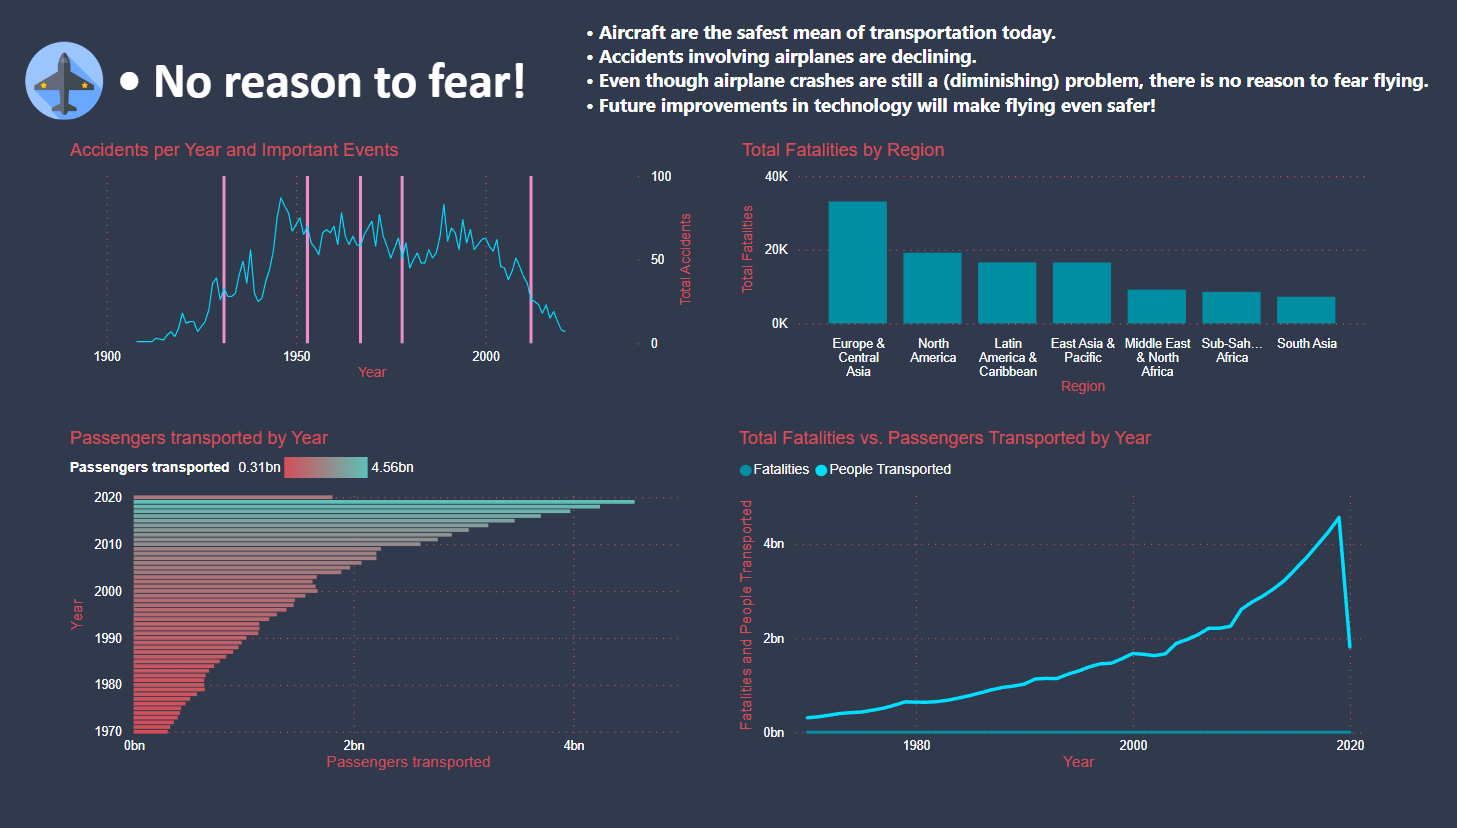

This screenshot's page, from the dashboard's own definition file:
{"tool":"powerbi","page":{"name":"Hope","canvas":[1280,720],"ordinal":3},"visuals":[{"type":"lineChart","title":"Total Fatalities vs. Passengers Transported by Year","fields":{"Category":["Calendar.year"],"Y":["henry_piii plane_accidents.total_fatalities","henry_piii passengers_per_year.value"]},"box":[640.5,375.8,549.3,300.4],"z":0},{"type":"clusteredColumnChart","fields":{"Y":["henry_piii plane_accidents.total_fatalities"],"Category":["henry_piii country_dim.Region"]},"box":[642.9,128.4,547.6,223.7],"z":1000},{"type":"clusteredBarChart","fields":{"Category":["henry_piii passengers_per_year.year"],"Y":["henry_piii passengers_per_year.value"]},"box":[64.4,375.8,548.3,300.4],"z":2000},{"type":"lineStackedColumnComboChart","title":"Accidents per Year and Important Events","fields":{"Category":["Calendar.year"],"Y2":["henry_piii plane_accidents.i"],"Y":["henry_piii events.event"]},"box":[64.2,128.4,547.6,212],"z":3000},{"type":"textbox","box":[105,45.9,480.8,63.5],"z":4000},{"type":"image","box":[22.9,38.8,82,76.7],"z":5000},{"type":"textbox","box":[509,18.5,742.8,117.3],"z":6000}]}

Visuals, with their boxes in screenshot pixels (x1, y1, x2, y2), scaled from the page's 1280x720 canvas onto the 1457x828 screenshot:
"Total Fatalities vs. Passengers Transported by Year" lineChart: {"x1": 729, "y1": 432, "x2": 1354, "y2": 778}
clusteredColumnChart - henry_piii plane_accidents.total_fatalities x henry_piii country_dim.Region: {"x1": 732, "y1": 148, "x2": 1355, "y2": 405}
clusteredBarChart - henry_piii passengers_per_year.year x henry_piii passengers_per_year.value: {"x1": 73, "y1": 432, "x2": 697, "y2": 778}
"Accidents per Year and Important Events" lineStackedColumnComboChart: {"x1": 73, "y1": 148, "x2": 696, "y2": 391}
textbox: {"x1": 120, "y1": 53, "x2": 667, "y2": 126}
image: {"x1": 26, "y1": 45, "x2": 119, "y2": 133}
textbox: {"x1": 579, "y1": 21, "x2": 1425, "y2": 156}
